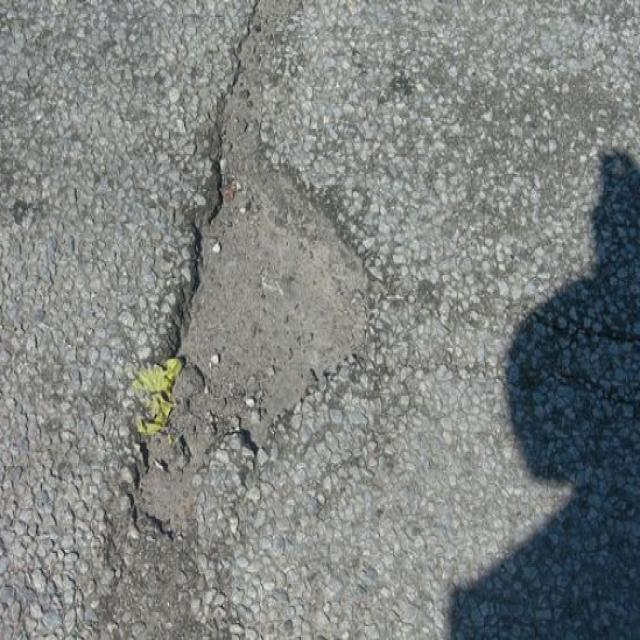pothole: (108, 125, 394, 550)
